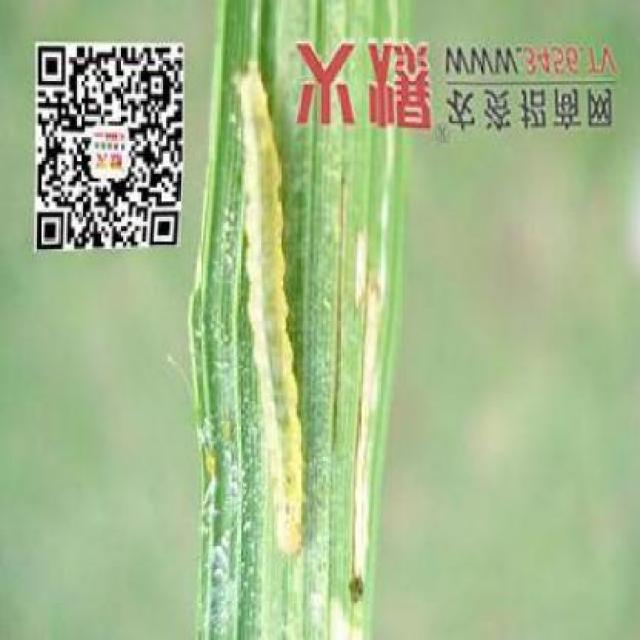leaf-folder: (210, 42, 307, 553)
